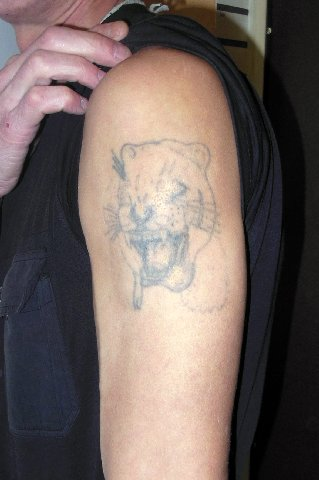tatu5_tigr: (101, 139, 223, 298)
